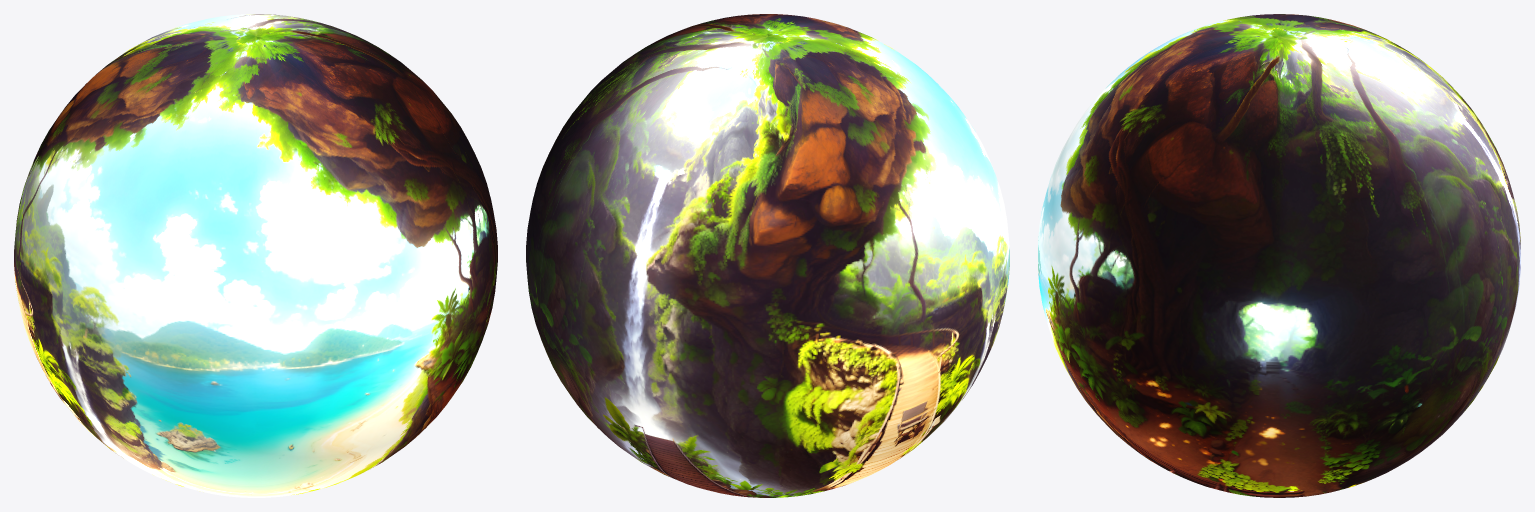
Rendered from jungle_02.glb.
3 renders of one model, left to right at view 1: azimuth 30°, elevation 25°; view 2: azimuth 150°, elevation 25°; view 3: azimuth 270°, elevation 25°, orthographic.
Parts seen in each view (by area): view 1: Background; view 2: Background; view 3: Background.
Part boxes in pixels (left/top/right/bottom): Background: left=14, top=14, right=497, bottom=497; Background: left=526, top=14, right=1009, bottom=497; Background: left=1038, top=14, right=1520, bottom=497.
Bounding box in the file's own units: 0.2478 × 0.248 × 0.2473.
1 material, 1 textured.
